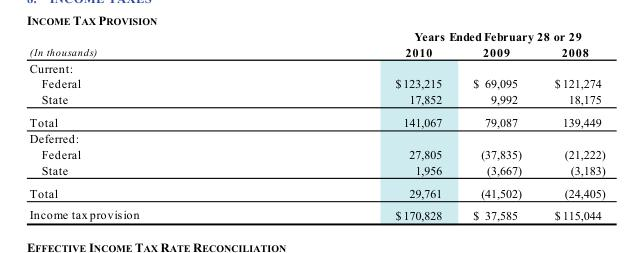table: (28, 29, 604, 221)
table column: (28, 29, 266, 221), (266, 29, 456, 221), (456, 29, 537, 221), (537, 29, 604, 221)
table column header: (28, 29, 604, 59)
table projected row header: (28, 59, 604, 75), (28, 130, 604, 146)
table row: (28, 181, 604, 203), (28, 110, 604, 130), (28, 161, 604, 181), (28, 91, 604, 110), (28, 203, 604, 221), (28, 59, 604, 75), (28, 75, 604, 91), (28, 130, 604, 146), (28, 29, 604, 44), (28, 44, 604, 59), (28, 146, 604, 161)
table spanning cell: (28, 29, 266, 59), (266, 29, 604, 44)
